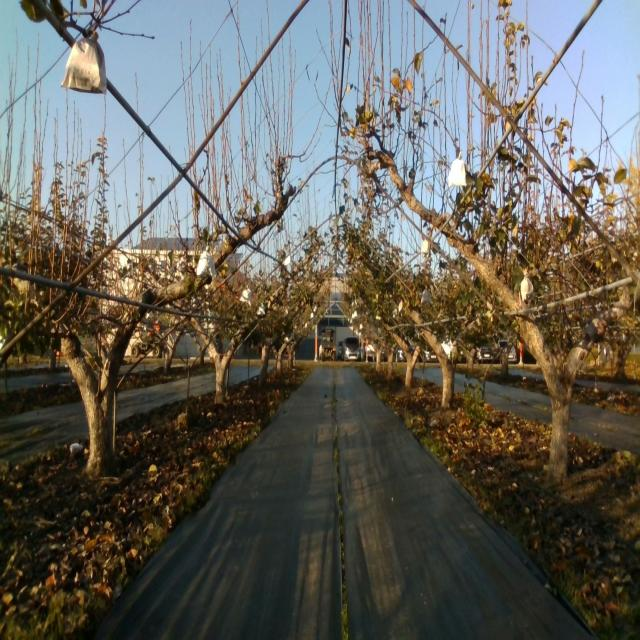pearbags: (62, 30, 107, 95), (448, 150, 467, 190), (196, 245, 218, 278), (520, 268, 534, 302), (240, 284, 252, 304)
